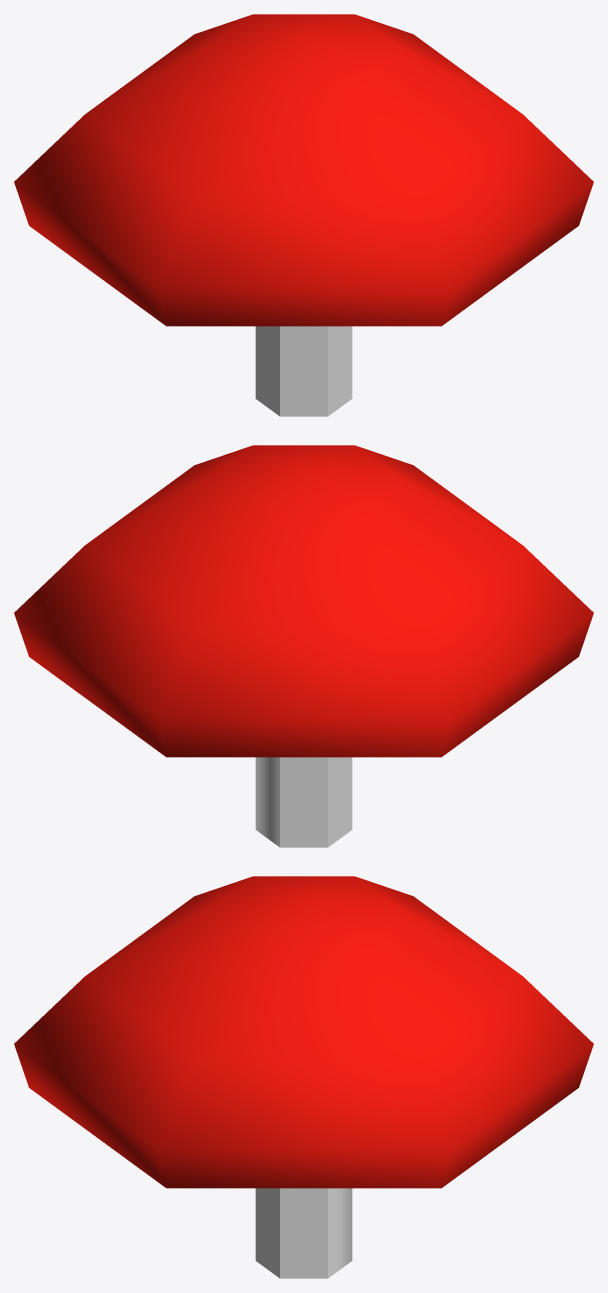
Rendered from mesh_mushroom_03.fbx.
The picture shows the model from 3 angles, top to bottom: view 1: azimuth 30°, elevation 25°; view 2: azimuth 150°, elevation 25°; view 3: azimuth 270°, elevation 25°; orthographic projection.
Parts seen in each view (by area): view 1: mesh_mushroom_03; view 2: mesh_mushroom_03; view 3: mesh_mushroom_03.
Part boxes in pixels (x1=…): mesh_mushroom_03: x1=14, y1=14, x2=593, y2=416; mesh_mushroom_03: x1=14, y1=445, x2=593, y2=847; mesh_mushroom_03: x1=14, y1=876, x2=593, y2=1278.
Size of the model in its own units: 23.84 by 19 by 27.53.
